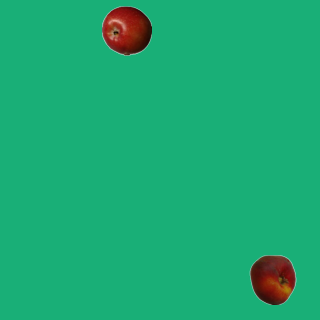Apple Braeburn: (101, 5, 151, 55)
Nectarine Flat: (247, 254, 297, 304)
